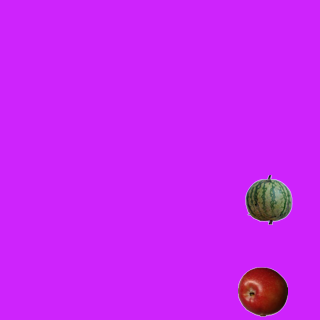Apple Braeburn: (237, 266, 287, 316)
Watermelon: (243, 174, 293, 224)
